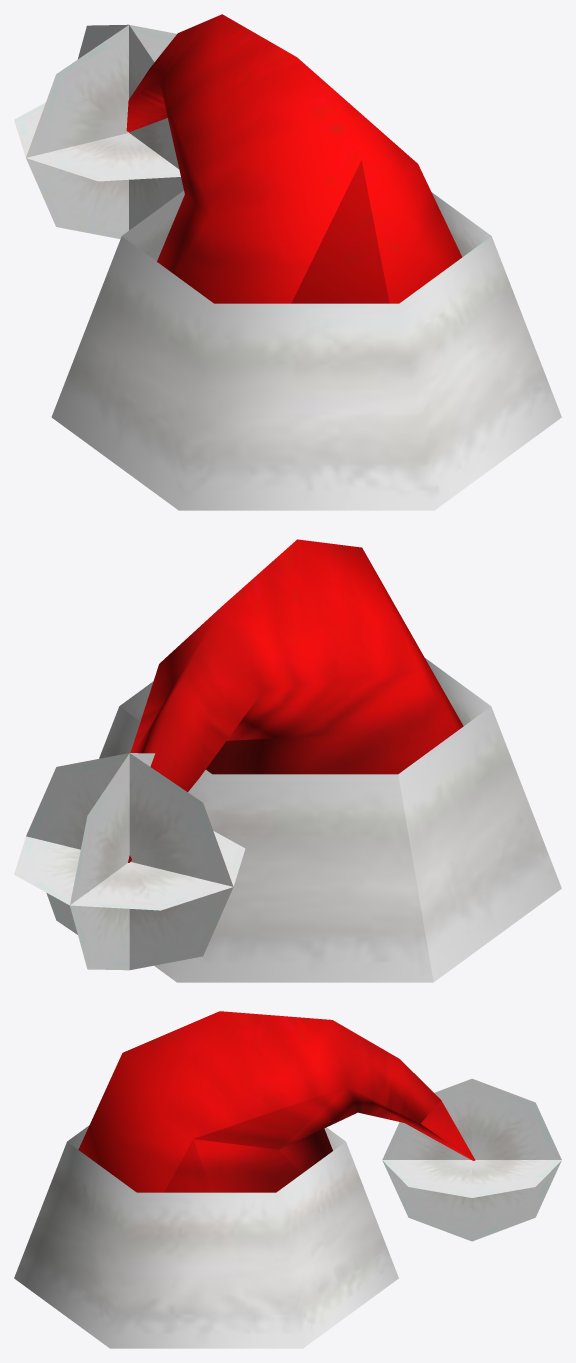
The model's file is Item1501.FBX.
3 views of the same model, one above another, from view 1: azimuth 30°, elevation 25°; view 2: azimuth 150°, elevation 25°; view 3: azimuth 270°, elevation 25° (orthographic). The views are drawn at different scales.
Visible parts, largest first — view 1: item12, Cylinder03, Cylinder02, Cylinder01; view 2: item12, Cylinder03, Cylinder01, Cylinder02; view 3: item12, Cylinder01, Cylinder02.
Part boxes in pixels (<box>): item12: <box>51,14,561,510</box>; Cylinder03: <box>26,25,176,238</box>; Cylinder02: <box>14,102,180,181</box>; Cylinder01: <box>77,24,183,230</box>; item12: <box>99,539,561,982</box>; Cylinder03: <box>26,753,233,969</box>; Cylinder01: <box>70,753,155,970</box>; Cylinder02: <box>14,831,245,910</box>; item12: <box>14,1011,475,1348</box>; Cylinder01: <box>382,1078,561,1241</box>; Cylinder02: <box>382,1160,561,1197</box>.
Size of the model in its own units: 5.07 by 4.47 by 8.33.
Materials: 2 (2 with a texture image).
